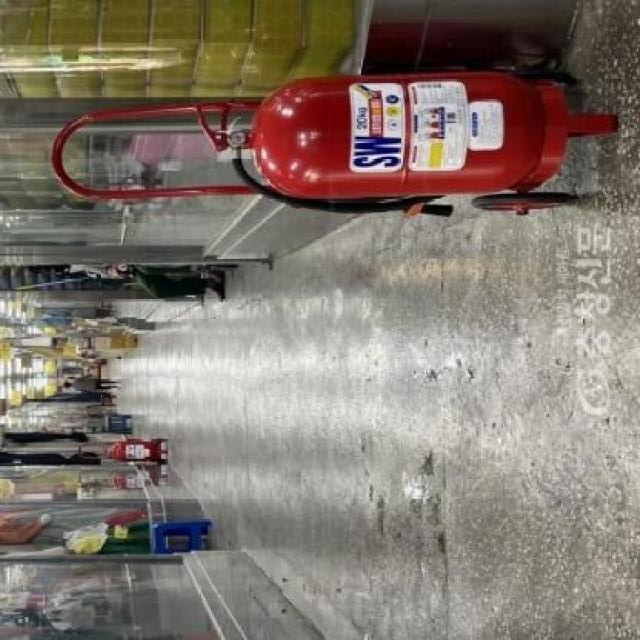fire extinguisher: (191, 70, 545, 218), (101, 442, 155, 463)
